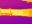Hotspot: (0, 8, 31, 17), (24, 0, 31, 2)
